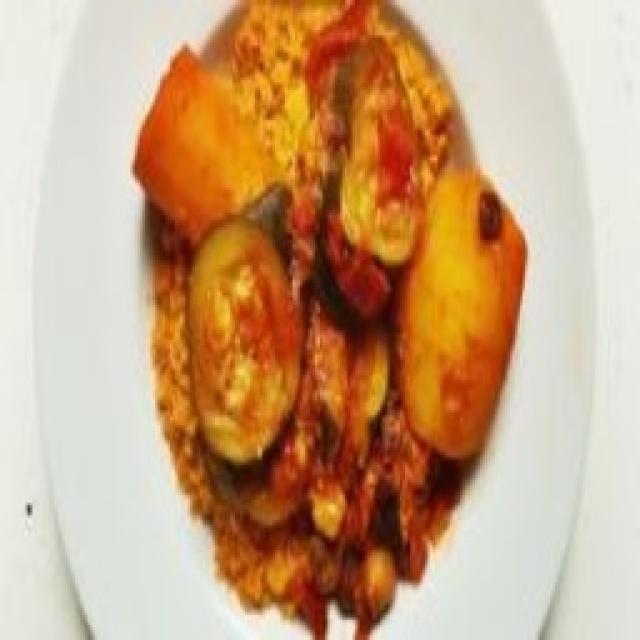Couscous: (134, 0, 558, 640)
